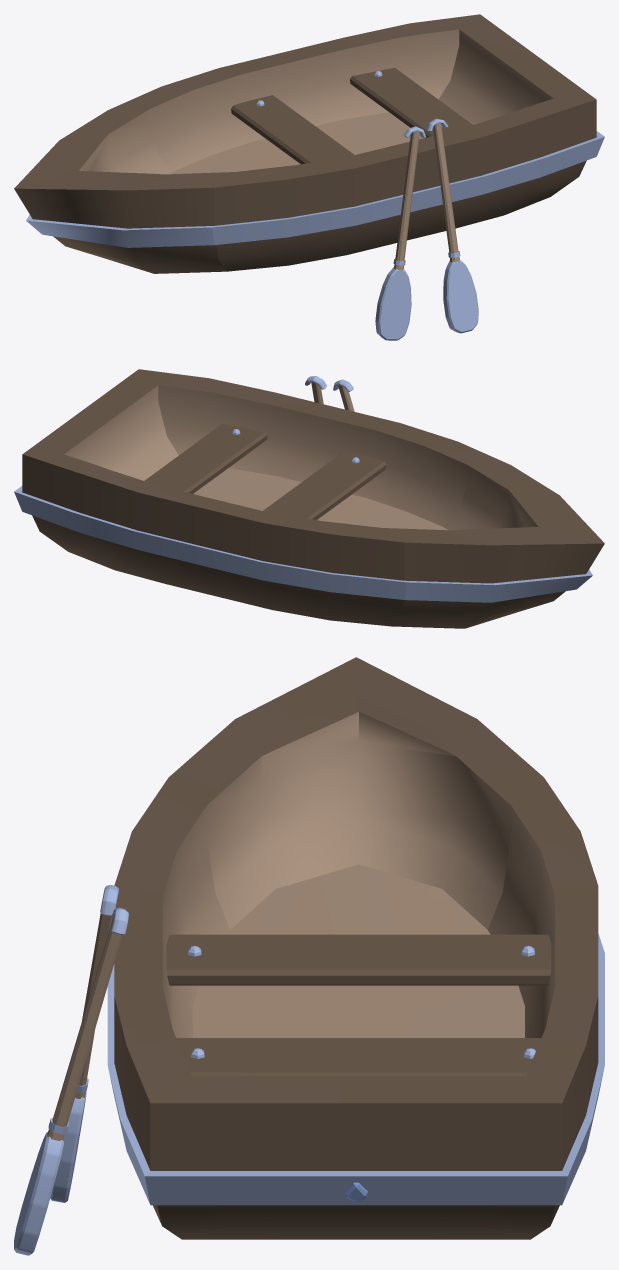
The model's file is boot blauw.fbx.
The picture shows the model from 3 angles, top to bottom: view 1: azimuth 30°, elevation 25°; view 2: azimuth 150°, elevation 25°; view 3: azimuth 270°, elevation 25°; orthographic projection. The views are drawn at different scales.
Parts seen in each view (by area): view 1: pasted__polySurface46; view 2: pasted__polySurface46; view 3: pasted__polySurface46.
Part boxes in pixels (x1=…): pasted__polySurface46: x1=14, y1=14, x2=604, y2=340; pasted__polySurface46: x1=14, y1=369, x2=604, y2=628; pasted__polySurface46: x1=14, y1=657, x2=604, y2=1255.
Size of the model in its own units: 11.33 by 3.95 by 6.16.
